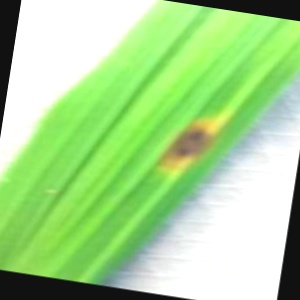Bacterial_Leaf_Blight: (153, 111, 227, 183)
